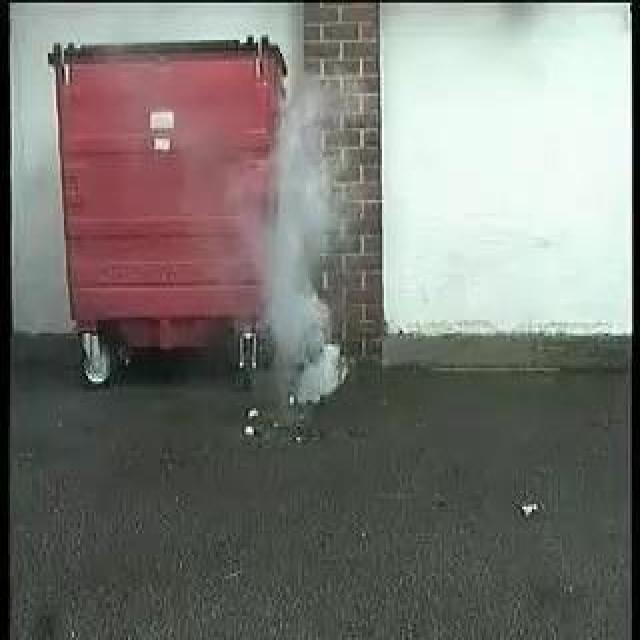Smoke: (260, 79, 340, 393)
